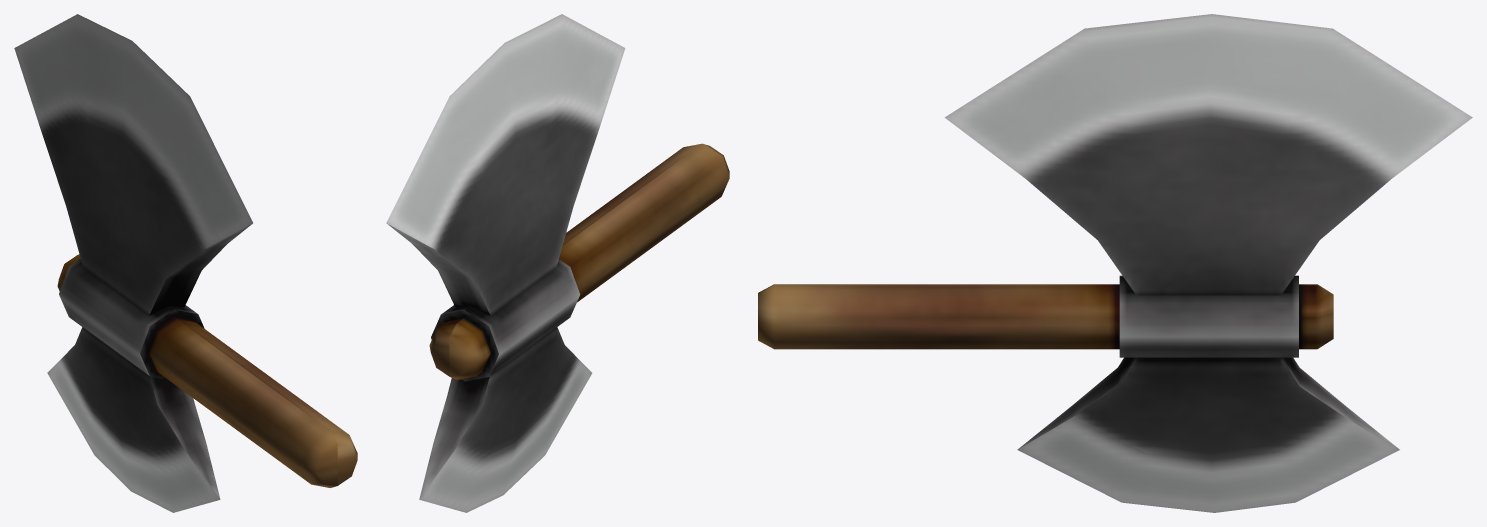
The model's file is axe002 1.fbx.
3 renders of one model, left to right at view 1: azimuth 30°, elevation 25°; view 2: azimuth 150°, elevation 25°; view 3: azimuth 270°, elevation 25°, orthographic. The views are drawn at different scales.
Visible parts, largest first — view 1: axe002; view 2: axe002; view 3: axe002.
Boxes of the visible parts, x1,y1,x2,y2 form: axe002: (14,14,357,512); axe002: (386,14,729,512); axe002: (758,14,1472,512).
Bounding box in the file's own units: 0.0523 × 0.3306 × 0.4293.
